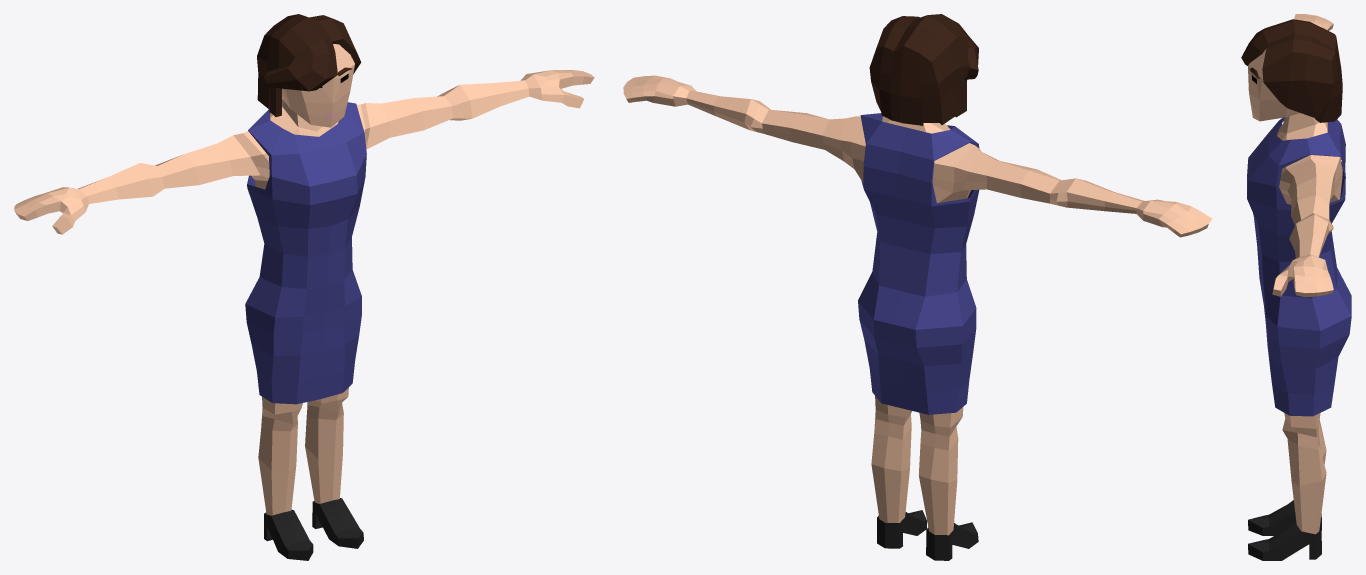
File: NPC_W_Azul_Escenario2_PeloCorto.fbx
The picture shows the model from 3 angles, left to right: view 1: azimuth 30°, elevation 25°; view 2: azimuth 150°, elevation 25°; view 3: azimuth 270°, elevation 25°; orthographic projection.
Visible parts, largest first — view 1: Vestido; view 2: Vestido; view 3: Vestido.
Part boxes in pixels (x1,y1,x2,y2): Vestido: (14, 14, 594, 560); Vestido: (623, 14, 1212, 560); Vestido: (1241, 14, 1351, 560).
Bounding box in the file's own units: 215 × 187 × 35.99.
